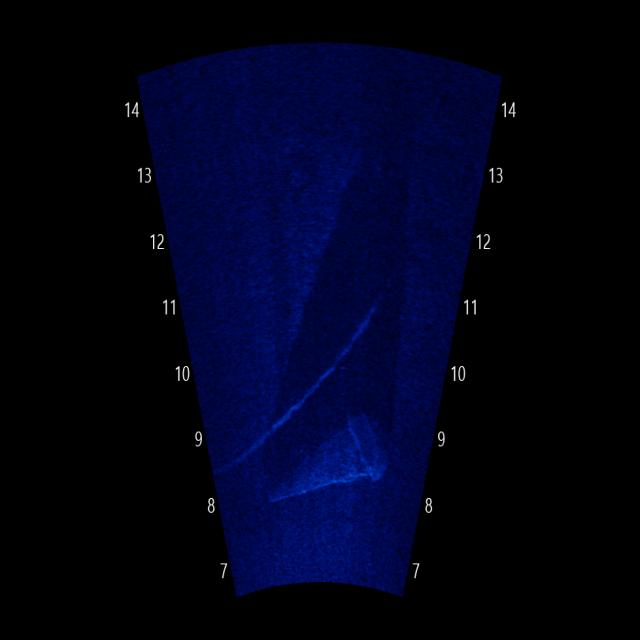triangle: (253, 390, 407, 509)
